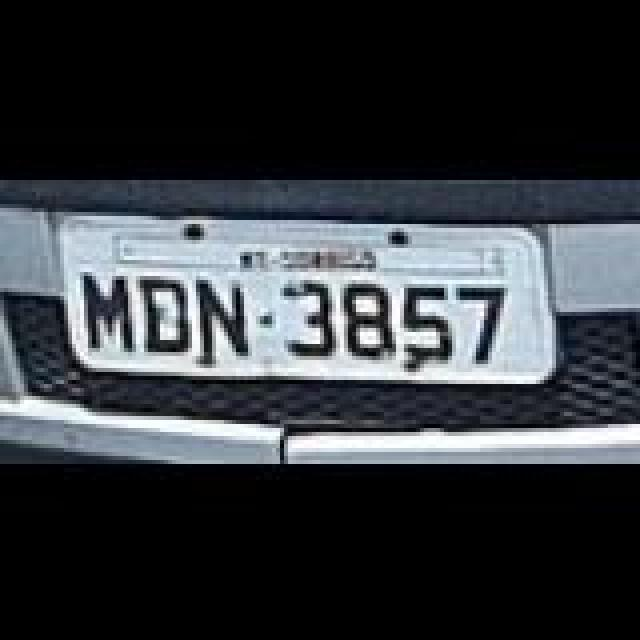3: (284, 278, 340, 354)
5: (398, 280, 458, 360)
7: (452, 280, 516, 360)
8: (338, 282, 398, 358)
D: (136, 272, 200, 352)
M: (78, 272, 138, 352)
N: (192, 276, 256, 356)
